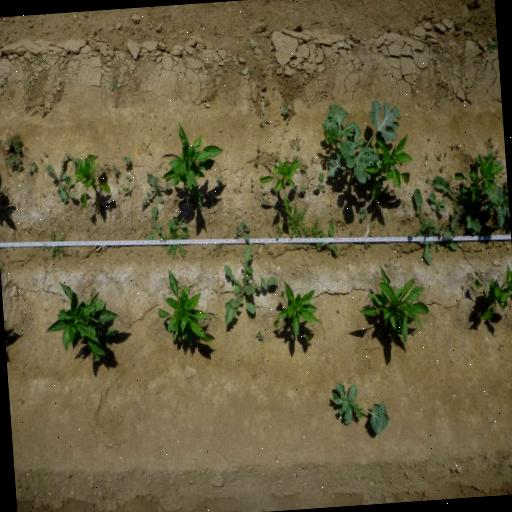plant: (358, 260, 431, 346), (46, 282, 120, 365), (159, 120, 225, 210), (154, 266, 216, 352), (272, 280, 322, 348), (370, 134, 415, 203), (259, 157, 301, 217), (471, 262, 512, 323), (76, 152, 108, 216), (454, 159, 506, 193)
weed: (320, 97, 402, 186), (216, 242, 279, 323), (406, 186, 459, 268), (330, 374, 394, 440), (429, 174, 485, 237), (479, 185, 511, 240), (46, 159, 76, 206), (139, 171, 172, 209), (161, 228, 195, 258), (40, 228, 69, 262), (284, 205, 308, 237), (304, 214, 324, 252), (320, 221, 341, 257), (144, 202, 162, 238), (5, 150, 26, 174), (428, 190, 448, 210), (234, 219, 252, 241), (313, 172, 327, 194), (168, 214, 189, 228), (6, 135, 22, 152), (288, 134, 302, 152), (108, 71, 120, 91), (274, 222, 286, 240), (486, 40, 498, 56), (483, 136, 495, 150), (27, 160, 39, 174), (360, 206, 370, 220), (398, 241, 408, 255), (122, 154, 132, 168), (122, 182, 132, 196), (111, 161, 121, 175), (280, 105, 290, 117), (255, 330, 264, 342), (300, 184, 310, 194), (300, 163, 310, 172), (214, 175, 224, 184), (436, 152, 444, 160), (250, 177, 254, 193), (72, 156, 78, 166), (266, 230, 272, 238), (254, 157, 260, 165), (66, 152, 72, 160), (74, 250, 80, 258), (126, 174, 132, 181), (42, 152, 48, 158), (256, 144, 260, 152), (440, 165, 444, 172), (425, 152, 429, 159), (336, 308, 340, 314), (238, 186, 242, 192), (209, 248, 212, 255), (260, 121, 264, 126), (312, 156, 315, 162), (115, 176, 118, 182), (286, 118, 289, 124), (349, 231, 354, 234), (148, 150, 151, 155), (202, 245, 206, 248), (240, 182, 242, 186)
